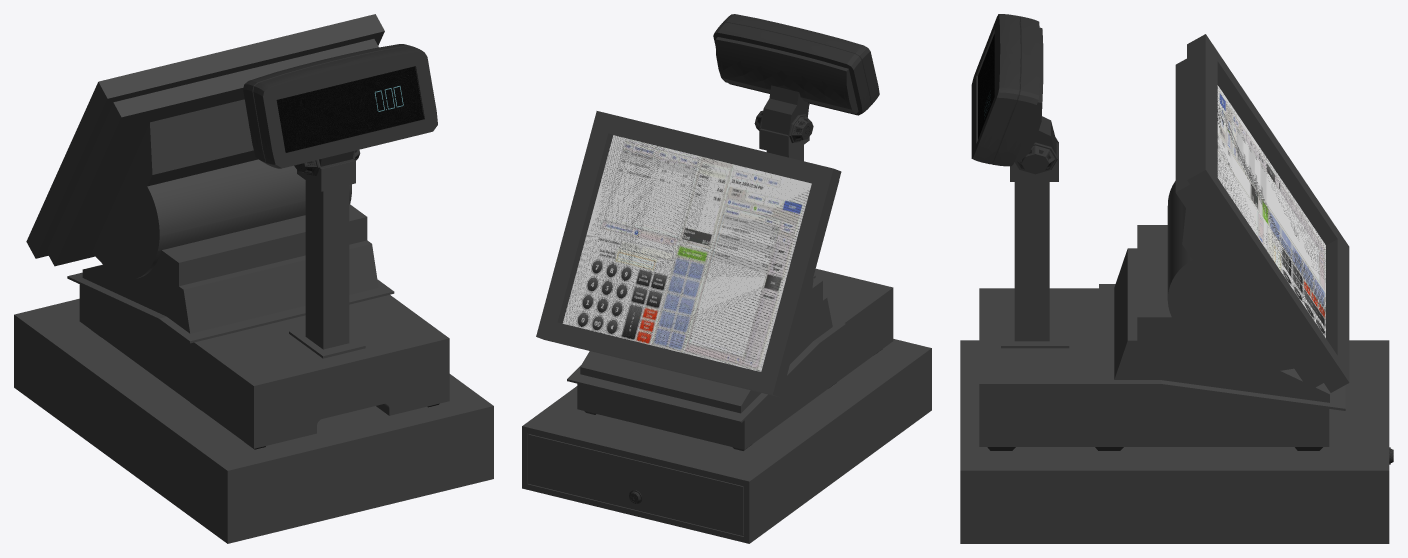
File: caixa_registradora.dae
3 views of the same model, side by side, from view 1: azimuth 30°, elevation 25°; view 2: azimuth 150°, elevation 25°; view 3: azimuth 270°, elevation 25° (orthographic). The views are drawn at different scales.
Visible parts, largest first — view 1: group_0, group_3, group_6, group_2 (×2), group_11, group_7, group_5, group_10, group_8, group_9, group_4; view 2: group_5 (×3), group_0 (×3), group_3, group_2 (×2), group_11, group_8, group_9; view 3: group_0, group_3, group_5 (×3), group_11, group_2 (×3), group_6, group_10, group_7, group_8, group_4, group_9.
Boxes of the visible parts, x1=… form: group_0: x1=14, y1=298, x2=493, y2=543; group_3: x1=79, y1=284, x2=449, y2=448; group_6: x1=91, y1=99, x2=351, y2=279; group_2 (×2): x1=243, y1=44, x2=437, y2=168; group_11: x1=82, y1=204, x2=378, y2=333; group_7: x1=46, y1=39, x2=378, y2=266; group_5: x1=26, y1=14, x2=384, y2=258; group_10: x1=305, y1=180, x2=349, y2=349; group_8: x1=67, y1=272, x2=394, y2=343; group_9: x1=297, y1=160, x2=355, y2=191; group_4: x1=289, y1=327, x2=365, y2=358; group_5 (×3): x1=536, y1=111, x2=841, y2=397; group_0 (×3): x1=522, y1=339, x2=931, y2=543; group_3: x1=577, y1=268, x2=893, y2=449; group_2 (×2): x1=713, y1=14, x2=879, y2=134; group_11: x1=580, y1=278, x2=832, y2=413; group_8: x1=567, y1=320, x2=845, y2=423; group_9: x1=759, y1=129, x2=809, y2=155; group_0: x1=960, y1=340, x2=1389, y2=543; group_3: x1=979, y1=288, x2=1329, y2=446; group_5 (×3): x1=1187, y1=34, x2=1349, y2=392; group_11: x1=1114, y1=225, x2=1329, y2=402; group_2 (×3): x1=971, y1=14, x2=1058, y2=174; group_6: x1=1167, y1=181, x2=1293, y2=371; group_10: x1=1014, y1=182, x2=1049, y2=341; group_7: x1=1175, y1=58, x2=1323, y2=390; group_8: x1=1099, y1=284, x2=1345, y2=410; group_4: x1=1001, y1=325, x2=1069, y2=348; group_9: x1=1010, y1=159, x2=1058, y2=181.
Bounding box in the file's own units: 10.54 × 14.18 × 15.58.
